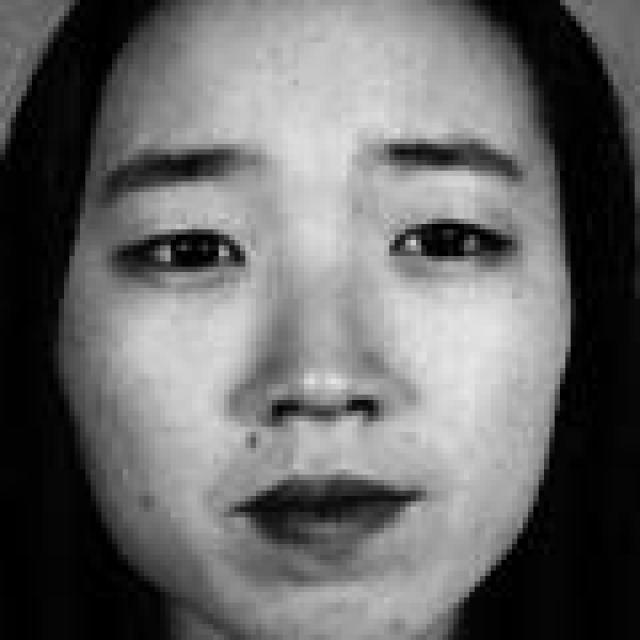sad: (76, 106, 569, 620)
